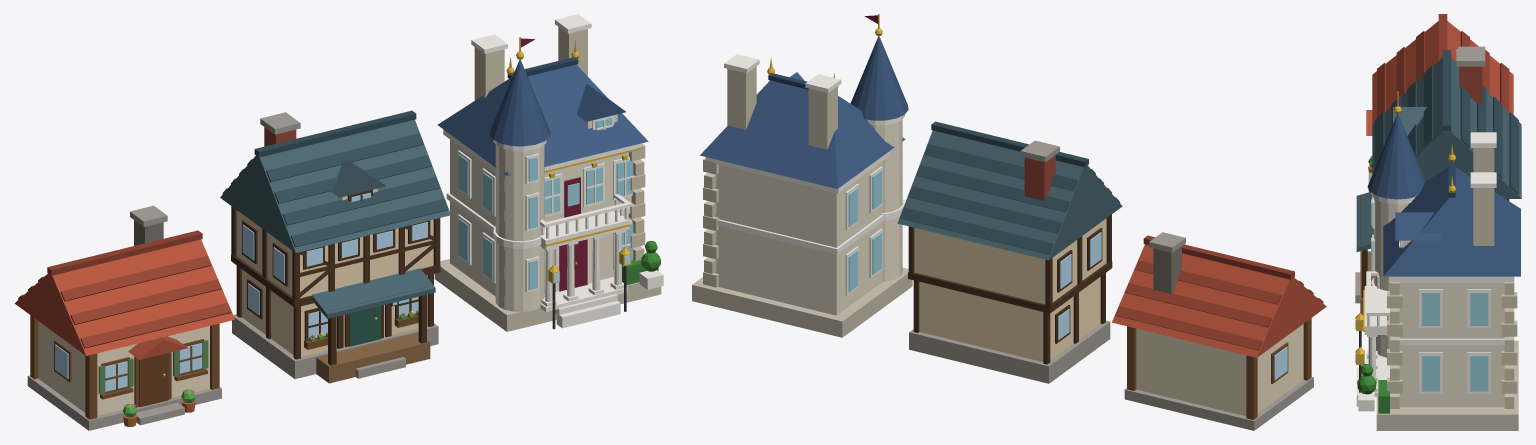
Rendered from house.glb.
The picture shows the model from 3 angles, left to right: view 1: azimuth 30°, elevation 25°; view 2: azimuth 150°, elevation 25°; view 3: azimuth 270°, elevation 25°; orthographic projection. The views are drawn at different scales.
Parts seen in each view (by area): view 1: house_2_slate_teal, house_3_marble, house_3_slate, house_3_ashlar, house_1_shingle, house_2_frame, house_2_slate_teal_dark, house_2_plaster_warm, house_1_shingle_dark, house_1_plaster, house_3_sea_glass, house_3_quoin (+13 smaller); view 2: house_3_ashlar, house_2_plaster_warm, house_3_slate, house_2_slate_teal, house_1_shingle, house_1_plaster, house_2_slate_teal_dark, house_1_shingle_dark, house_2_frame, house_3_quoin, house_3_terrace, house_2_stone (+7 smaller); view 3: house_3_slate, house_3_ashlar, house_2_slate_teal, house_3_marble, house_3_quoin, house_2_slate_teal_dark, house_3_terrace, house_1_shingle, house_3_sea_glass, house_1_shingle_dark, house_3_hedge, house_2_stone (+5 smaller).
Part boxes in pixels (x1=…): house_2_slate_teal: x1=220, y1=119, x2=450, y2=318; house_3_marble: x1=443, y1=14, x2=663, y2=328; house_3_slate: x1=437, y1=59, x2=648, y2=175; house_3_ashlar: x1=450, y1=114, x2=633, y2=311; house_1_shingle: x1=14, y1=239, x2=234, y2=359; house_2_frame: x1=231, y1=189, x2=440, y2=365; house_2_slate_teal_dark: x1=222, y1=110, x2=448, y2=247; house_2_plaster_warm: x1=236, y1=188, x2=433, y2=356; house_1_shingle_dark: x1=18, y1=230, x2=231, y2=348; house_1_plaster: x1=38, y1=321, x2=209, y2=415; house_3_sea_glass: x1=458, y1=117, x2=633, y2=290; house_3_quoin: x1=474, y1=27, x2=645, y2=307; house_3_ashlar: x1=714, y1=119, x2=902, y2=315; house_2_plaster_warm: x1=914, y1=218, x2=1106, y2=361; house_3_slate: x1=700, y1=36, x2=908, y2=188; house_2_slate_teal: x1=897, y1=130, x2=1122, y2=260; house_1_shingle: x1=1112, y1=244, x2=1326, y2=357; house_1_plaster: x1=1136, y1=324, x2=1303, y2=416; house_2_slate_teal_dark: x1=900, y1=121, x2=1120, y2=254; house_1_shingle_dark: x1=1115, y1=235, x2=1323, y2=350; house_2_frame: x1=908, y1=214, x2=1112, y2=364; house_3_quoin: x1=703, y1=66, x2=902, y2=287; house_3_terrace: x1=692, y1=267, x2=912, y2=337; house_2_stone: x1=909, y1=140, x2=1110, y2=383; house_3_slate: x1=1367, y1=114, x2=1520, y2=276; house_3_ashlar: x1=1373, y1=198, x2=1508, y2=406; house_2_slate_teal: x1=1356, y1=57, x2=1521, y2=251; house_3_marble: x1=1356, y1=132, x2=1514, y2=411; house_3_quoin: x1=1387, y1=148, x2=1517, y2=408; house_2_slate_teal_dark: x1=1375, y1=50, x2=1518, y2=194; house_3_terrace: x1=1376, y1=340, x2=1518, y2=430; house_1_shingle: x1=1366, y1=21, x2=1513, y2=135; house_3_sea_glass: x1=1371, y1=199, x2=1488, y2=391; house_1_shingle_dark: x1=1377, y1=14, x2=1509, y2=117; house_3_hedge: x1=1357, y1=364, x2=1389, y2=413; house_2_stone: x1=1355, y1=49, x2=1485, y2=303.
Size of the model in its own units: 10.87 by 5.05 by 2.75.
